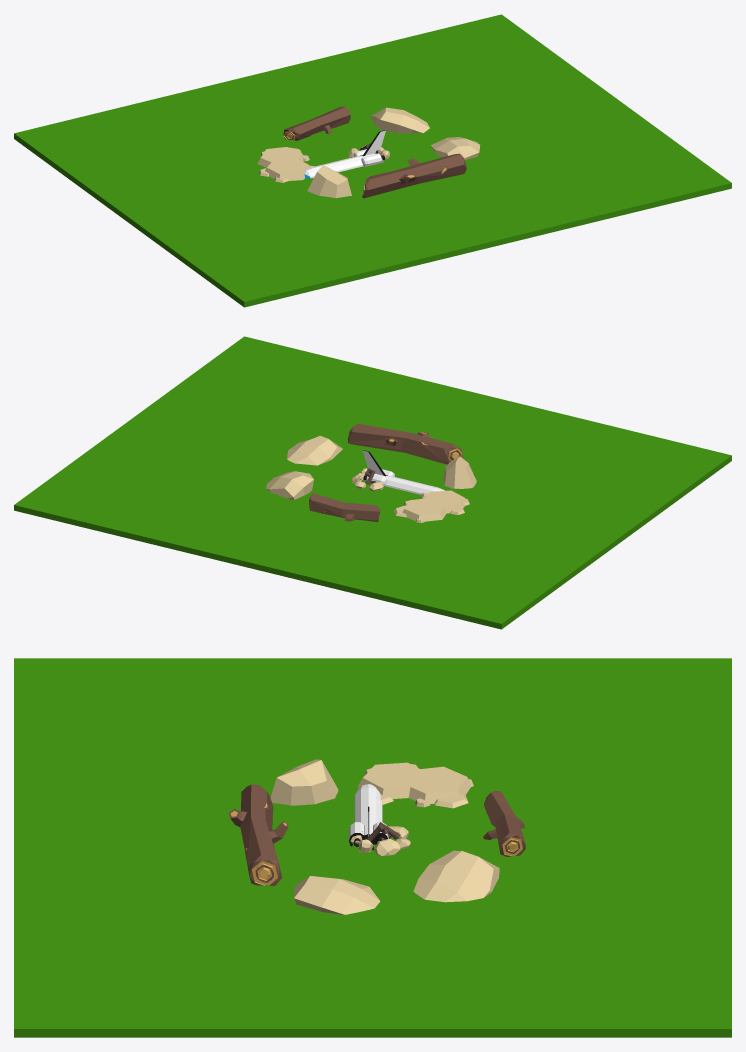
3 renders of one model, top to bottom at view 1: azimuth 30°, elevation 25°; view 2: azimuth 150°, elevation 25°; view 3: azimuth 270°, elevation 25°, orthographic. The views are drawn at different scales.
Visible parts, largest first — view 1: Cube, group1305922676, rockFlat, group1305922676.001, group124037832, Cube_Cube.007, Cube_Cube.003, Cube_Cube.008; view 2: Cube, group1305922676, rockFlat, group1305922676.001, Cube_Cube.008, group124037832, Cube_Cube.007, Cube_Cube.003; view 3: Cube, rockFlat, group1305922676, Cube_Cube.007, Cube_Cube.008, Cube_Cube.003, group1305922676.001, group124037832.
Part boxes in pixels (x1,y1,x2,y2): Cube: [14, 14, 731, 307]; group1305922676: [362, 153, 466, 198]; rockFlat: [257, 147, 314, 182]; group1305922676.001: [283, 106, 350, 140]; group124037832: [304, 130, 385, 178]; Cube_Cube.007: [371, 107, 429, 133]; Cube_Cube.003: [307, 165, 351, 197]; Cube_Cube.008: [431, 137, 479, 159]; Cube: [14, 336, 731, 629]; group1305922676: [348, 423, 462, 464]; rockFlat: [393, 490, 469, 522]; group1305922676.001: [309, 493, 380, 521]; Cube_Cube.008: [287, 435, 342, 465]; group124037832: [362, 450, 444, 494]; Cube_Cube.007: [266, 471, 313, 499]; Cube_Cube.003: [443, 456, 476, 489]; Cube: [14, 658, 731, 1037]; rockFlat: [357, 762, 473, 808]; group1305922676: [228, 784, 288, 885]; Cube_Cube.007: [413, 850, 499, 902]; Cube_Cube.008: [294, 876, 380, 914]; Cube_Cube.003: [270, 759, 338, 805]; group1305922676.001: [483, 790, 525, 856]; group124037832: [349, 784, 388, 850].
Bounding box in the file's own units: 12.39 × 1.55 × 10.14.
